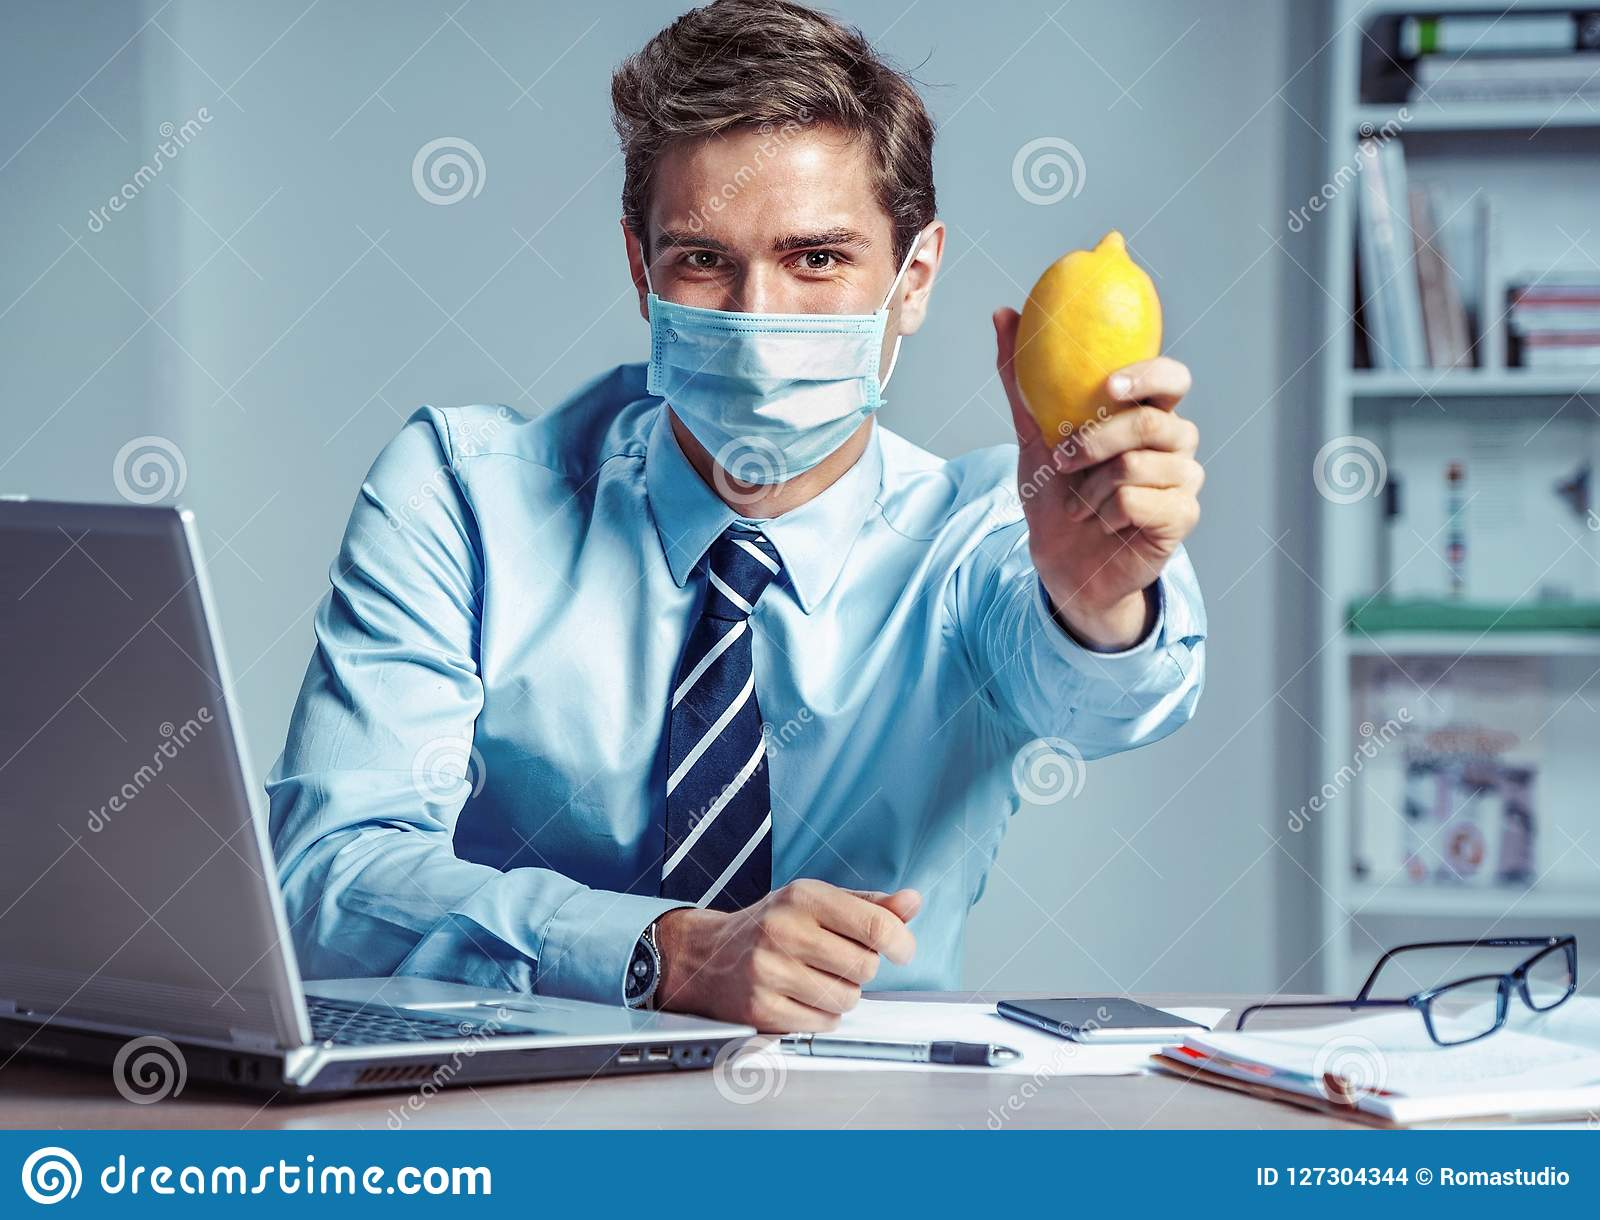mask: (635, 302, 878, 490)
